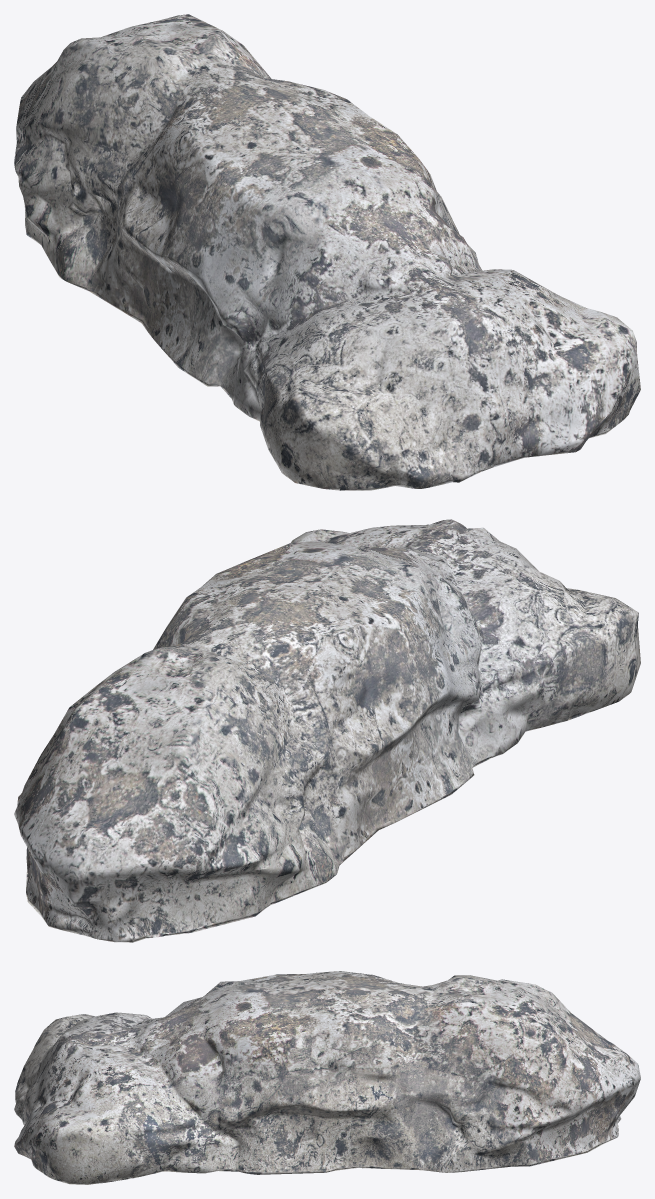
File: SM_RockCliff_04.fbx
3 views of the same model, one above another, from view 1: azimuth 30°, elevation 25°; view 2: azimuth 150°, elevation 25°; view 3: azimuth 270°, elevation 25° (orthographic). The views are drawn at different scales.
Parts seen in each view (by area): view 1: SM_RockCliff_04_LOD0; view 2: SM_RockCliff_04_LOD0; view 3: SM_RockCliff_04_LOD0.
Boxes of the visible parts, box(x1,y1,x2,y2) form: SM_RockCliff_04_LOD0: box(14, 14, 640, 490); SM_RockCliff_04_LOD0: box(14, 519, 640, 942); SM_RockCliff_04_LOD0: box(14, 971, 640, 1184).
Bounding box in the file's own units: 828 × 1809 × 452.
1 material, 1 textured.
